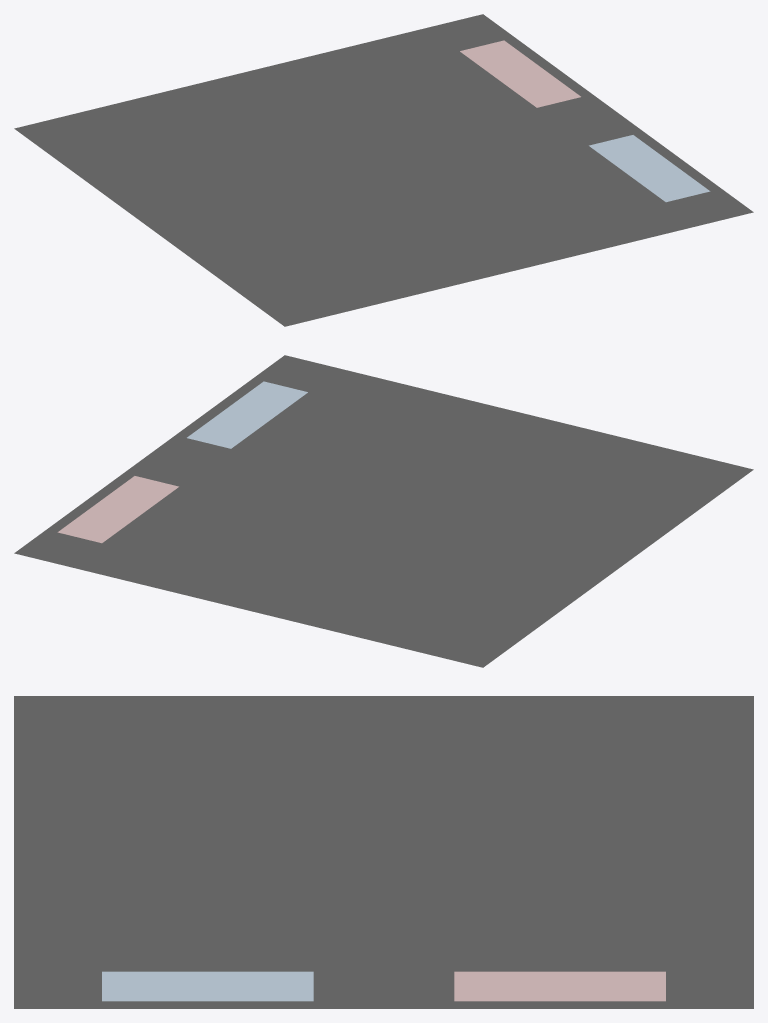
The model's file is ground.gltf.
3 views of the same model, one above another, from view 1: azimuth 30°, elevation 25°; view 2: azimuth 150°, elevation 25°; view 3: azimuth 270°, elevation 25° (orthographic). The views are drawn at different scales.
Parts seen in each view (by area): view 1: Ground, OutMarker2, InMarker3, OutMarker1, OutMarker3, InMarker1, InMarker2; view 2: Ground, OutMarker1, InMarker2, OutMarker2, OutMarker3, InMarker1, InMarker3; view 3: Ground, OutMarker1, OutMarker3, InMarker1, InMarker3, OutMarker2, InMarker2.
Part boxes in pixels (x1=…): Ground: x1=14, y1=14, x2=753, y2=326; OutMarker2: x1=485, y1=59, x2=555, y2=88; InMarker3: x1=640, y1=172, x2=710, y2=202; OutMarker1: x1=460, y1=40, x2=529, y2=69; OutMarker3: x1=511, y1=78, x2=580, y2=107; InMarker1: x1=589, y1=135, x2=658, y2=164; InMarker2: x1=614, y1=153, x2=684, y2=183; Ground: x1=14, y1=355, x2=753, y2=667; OutMarker1: x1=57, y1=513, x2=127, y2=543; InMarker2: x1=212, y1=400, x2=282, y2=429; OutMarker2: x1=83, y1=494, x2=153, y2=524; OutMarker3: x1=109, y1=476, x2=178, y2=505; InMarker1: x1=187, y1=419, x2=256, y2=448; InMarker3: x1=238, y1=381, x2=307, y2=410; Ground: x1=14, y1=696, x2=753, y2=1008; OutMarker1: x1=595, y1=971, x2=665, y2=1001; OutMarker3: x1=454, y1=971, x2=524, y2=1001; InMarker1: x1=243, y1=971, x2=313, y2=1001; InMarker3: x1=102, y1=971, x2=172, y2=1001; OutMarker2: x1=525, y1=971, x2=595, y2=1001; InMarker2: x1=172, y1=971, x2=242, y2=1001.
Size of the model in its own units: 10.5 by 0.002 by 10.5.
